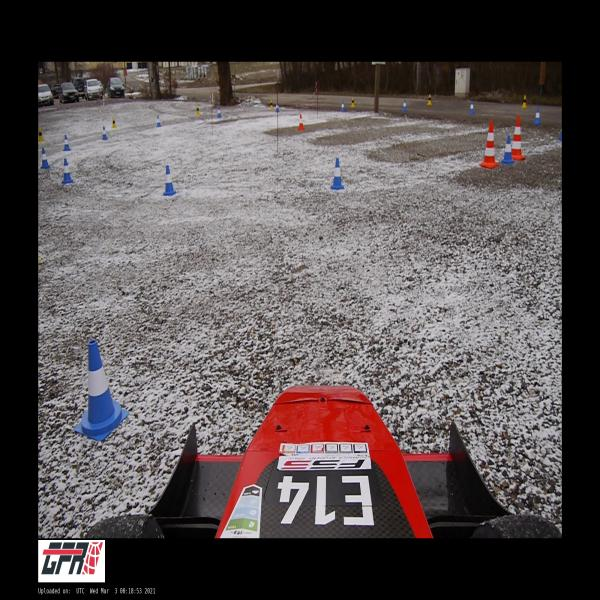blue_cone: (75, 340, 129, 441), (162, 166, 176, 196), (331, 158, 344, 189), (500, 136, 514, 164), (62, 159, 74, 183), (41, 148, 50, 169), (63, 135, 71, 151), (534, 108, 541, 124), (102, 126, 108, 140), (469, 100, 474, 115), (156, 116, 161, 127), (217, 107, 222, 117), (403, 100, 407, 112), (341, 101, 344, 112), (276, 104, 279, 112)
large_orange_cone: (480, 120, 499, 168), (511, 116, 526, 159)
orange_cone: (298, 114, 305, 130)
yellow_cone: (39, 127, 44, 142), (522, 94, 527, 108), (427, 94, 433, 105), (112, 116, 116, 128), (196, 105, 200, 116), (351, 97, 355, 107), (270, 100, 273, 109)
